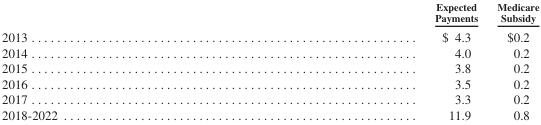table: (0, 0, 538, 121)
table column: (0, 0, 245, 121), (245, 0, 486, 121), (486, 0, 538, 121)
table column header: (0, 0, 538, 26)
table row: (0, 0, 538, 26), (0, 26, 538, 44), (0, 44, 538, 60), (0, 75, 538, 91), (0, 60, 538, 75), (0, 91, 538, 106), (0, 106, 538, 121)
